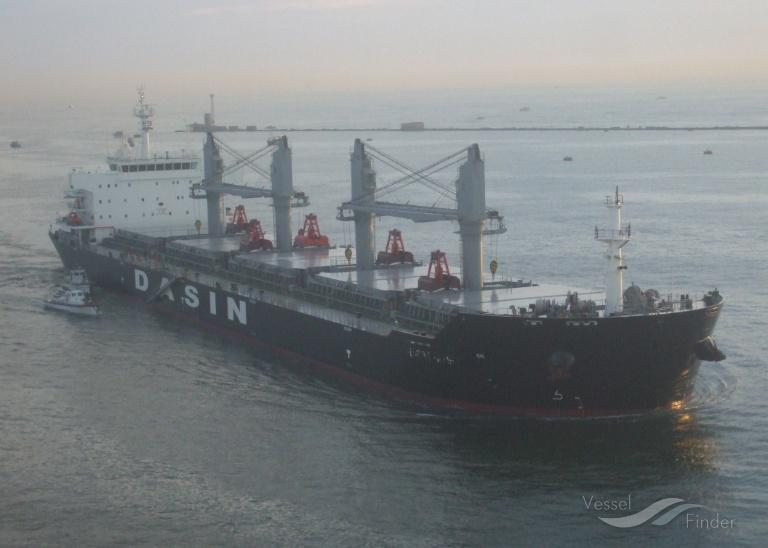OCR: (131, 262, 260, 331)
